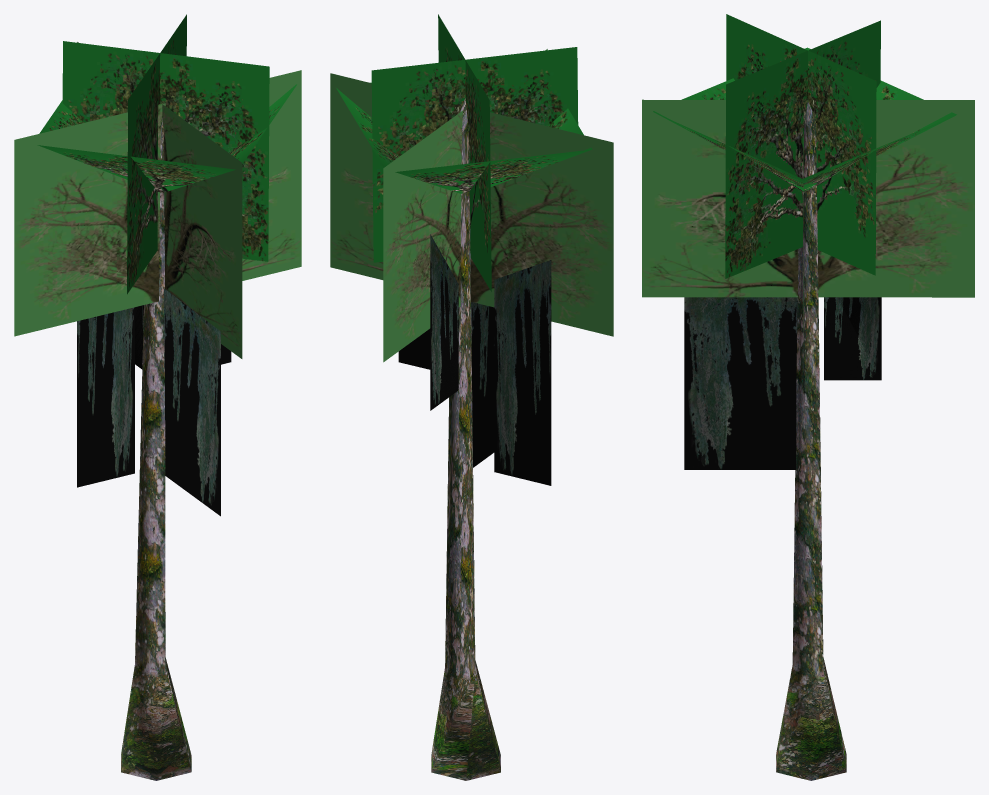
The model's file is decd_mosstree_l1.fbx.
3 renders of one model, left to right at view 1: azimuth 30°, elevation 25°; view 2: azimuth 150°, elevation 25°; view 3: azimuth 270°, elevation 25°, orthographic.
Visible parts, largest first — view 1: mesh_node; view 2: mesh_node; view 3: mesh_node.
Boxes of the visible parts, <box> form: mesh_node: <box>14,14,301,780</box>; mesh_node: <box>330,14,613,780</box>; mesh_node: <box>642,14,974,780</box>.
Size of the model in its own units: 6.69 by 15.85 by 6.69.
